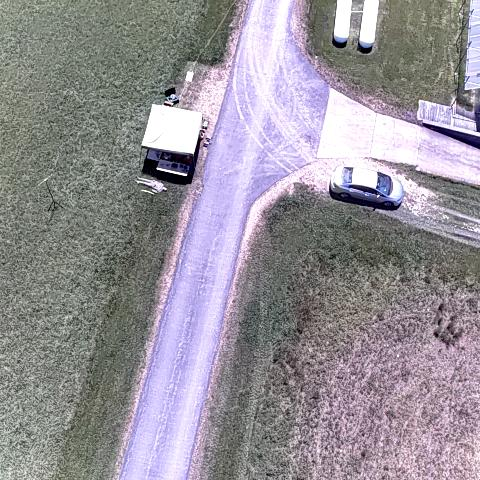person: (133, 175, 169, 193)
